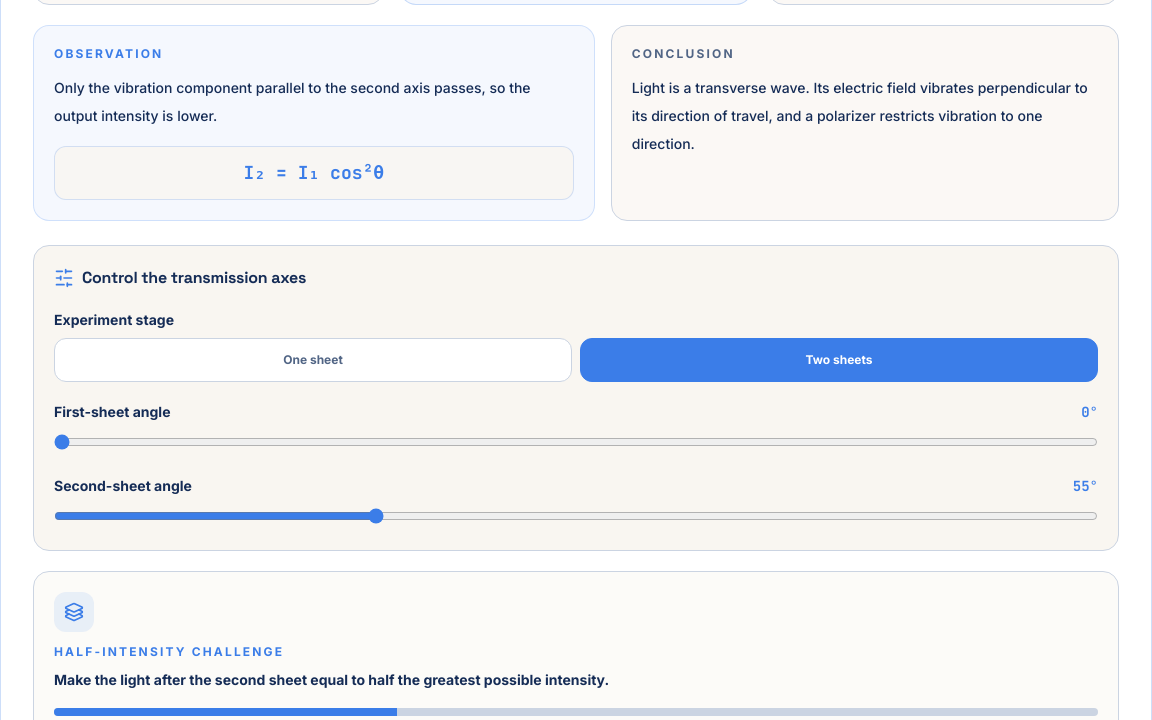
Test: LightWavePolarizationActivity › switches between the one-sheet and two-sheet stages
(page scrolled)
Step 1. Click the button "One sheet" → click(313, 360), box [54,338,572,382]
(page scrolled)
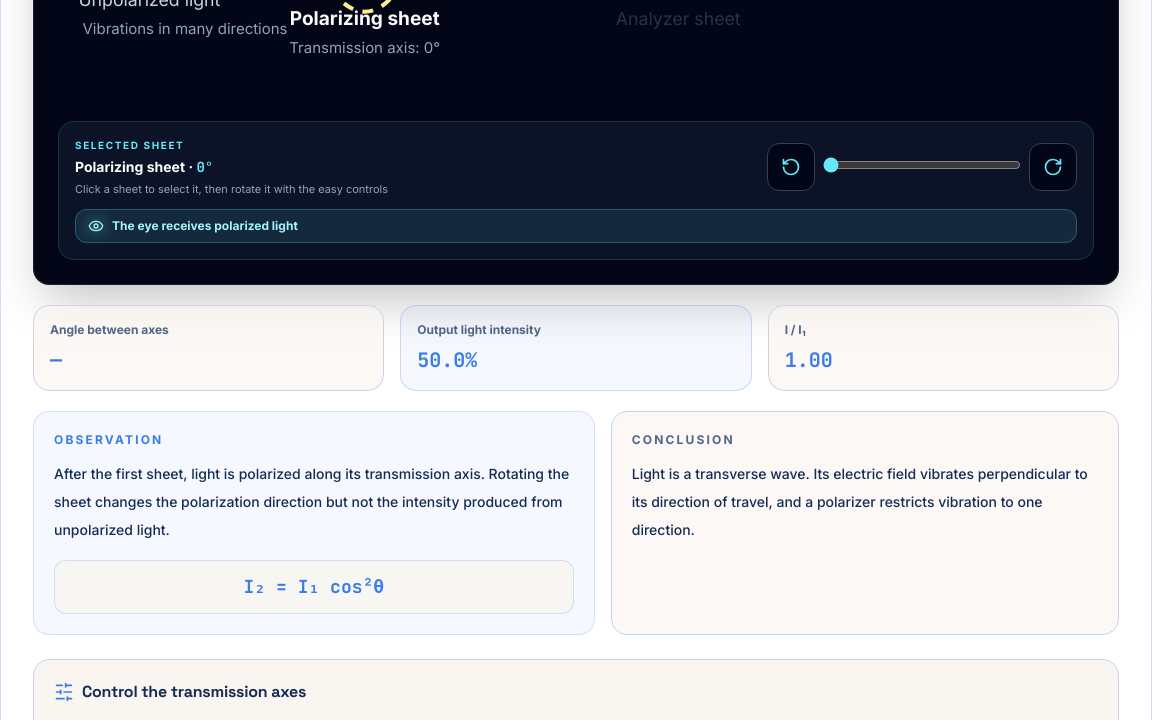
Check: the text "50.0%" is shown, box [417,347,477,373]
